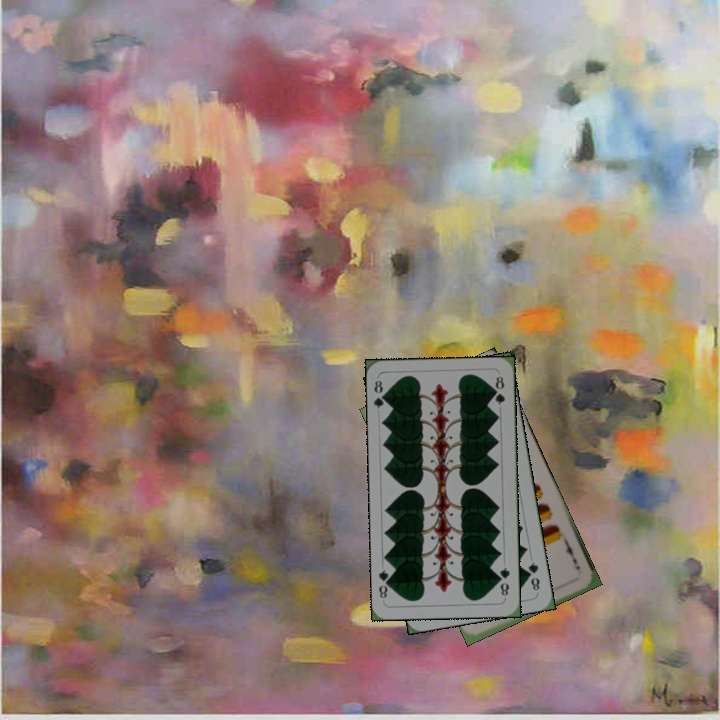E7: (561, 538, 582, 572)
G8: (495, 563, 513, 601), (370, 376, 389, 411), (524, 558, 542, 593)
